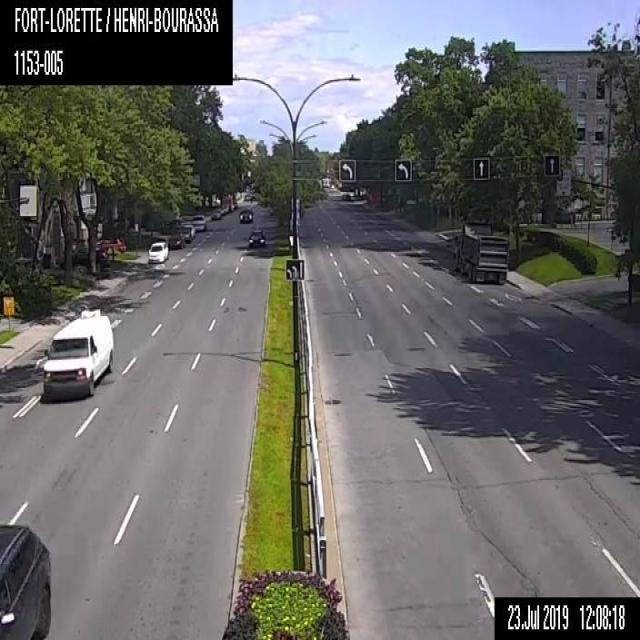vehicle: (39, 308, 114, 401), (0, 520, 53, 639), (451, 220, 509, 283), (58, 246, 108, 271), (145, 241, 167, 264), (246, 227, 266, 248), (98, 237, 125, 252), (158, 219, 182, 235), (178, 224, 196, 241), (190, 213, 207, 230), (168, 230, 184, 248), (238, 207, 252, 224), (209, 208, 221, 220), (340, 192, 351, 200), (321, 177, 328, 186)
